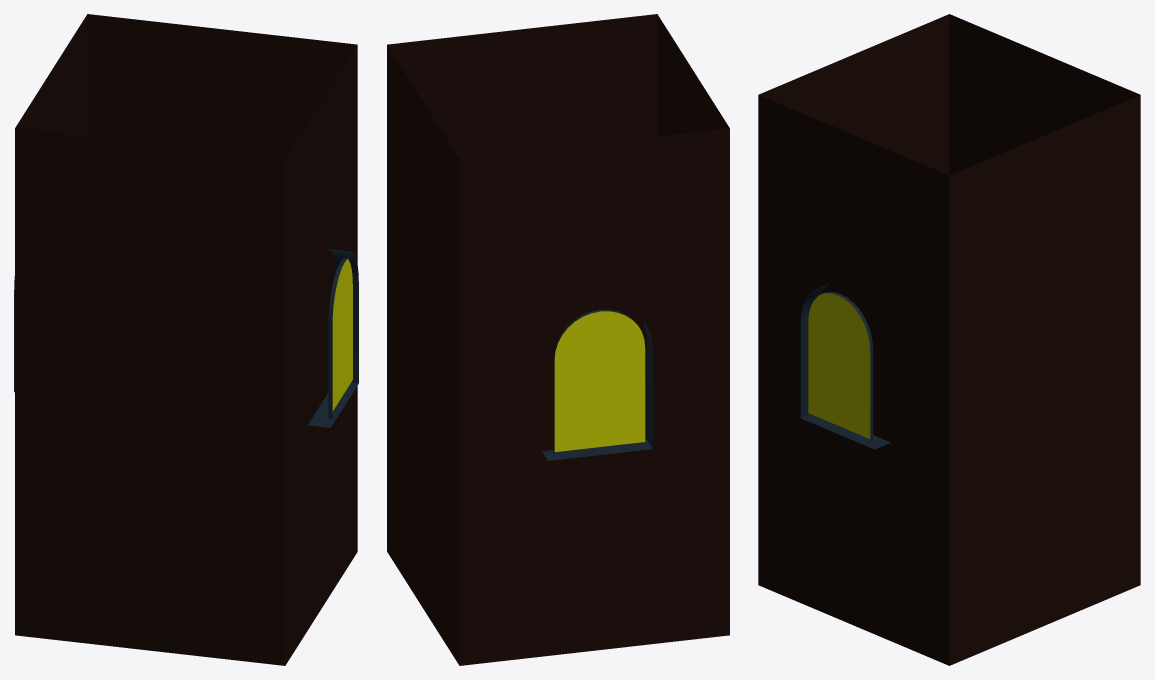
File: light_house_p2.obj
3 views of the same model, side by side, from view 1: azimuth 30°, elevation 25°; view 2: azimuth 150°, elevation 25°; view 3: azimuth 270°, elevation 25° (orthographic). The views are drawn at different scales.
Parts seen in each view (by area): view 1: Cube.002, Circle.008; view 2: Cube.002, Circle.008; view 3: Cube.002, Circle.008.
Boxes of the visible parts, bbox=[...] form: Cube.002: bbox=[15, 14, 357, 665]; Circle.008: bbox=[14, 249, 358, 427]; Cube.002: bbox=[387, 14, 729, 665]; Circle.008: bbox=[542, 309, 652, 460]; Cube.002: bbox=[758, 14, 1140, 665]; Circle.008: bbox=[800, 282, 890, 449].
Size of the model in its own units: 1.07 by 1.51 by 1.07.
